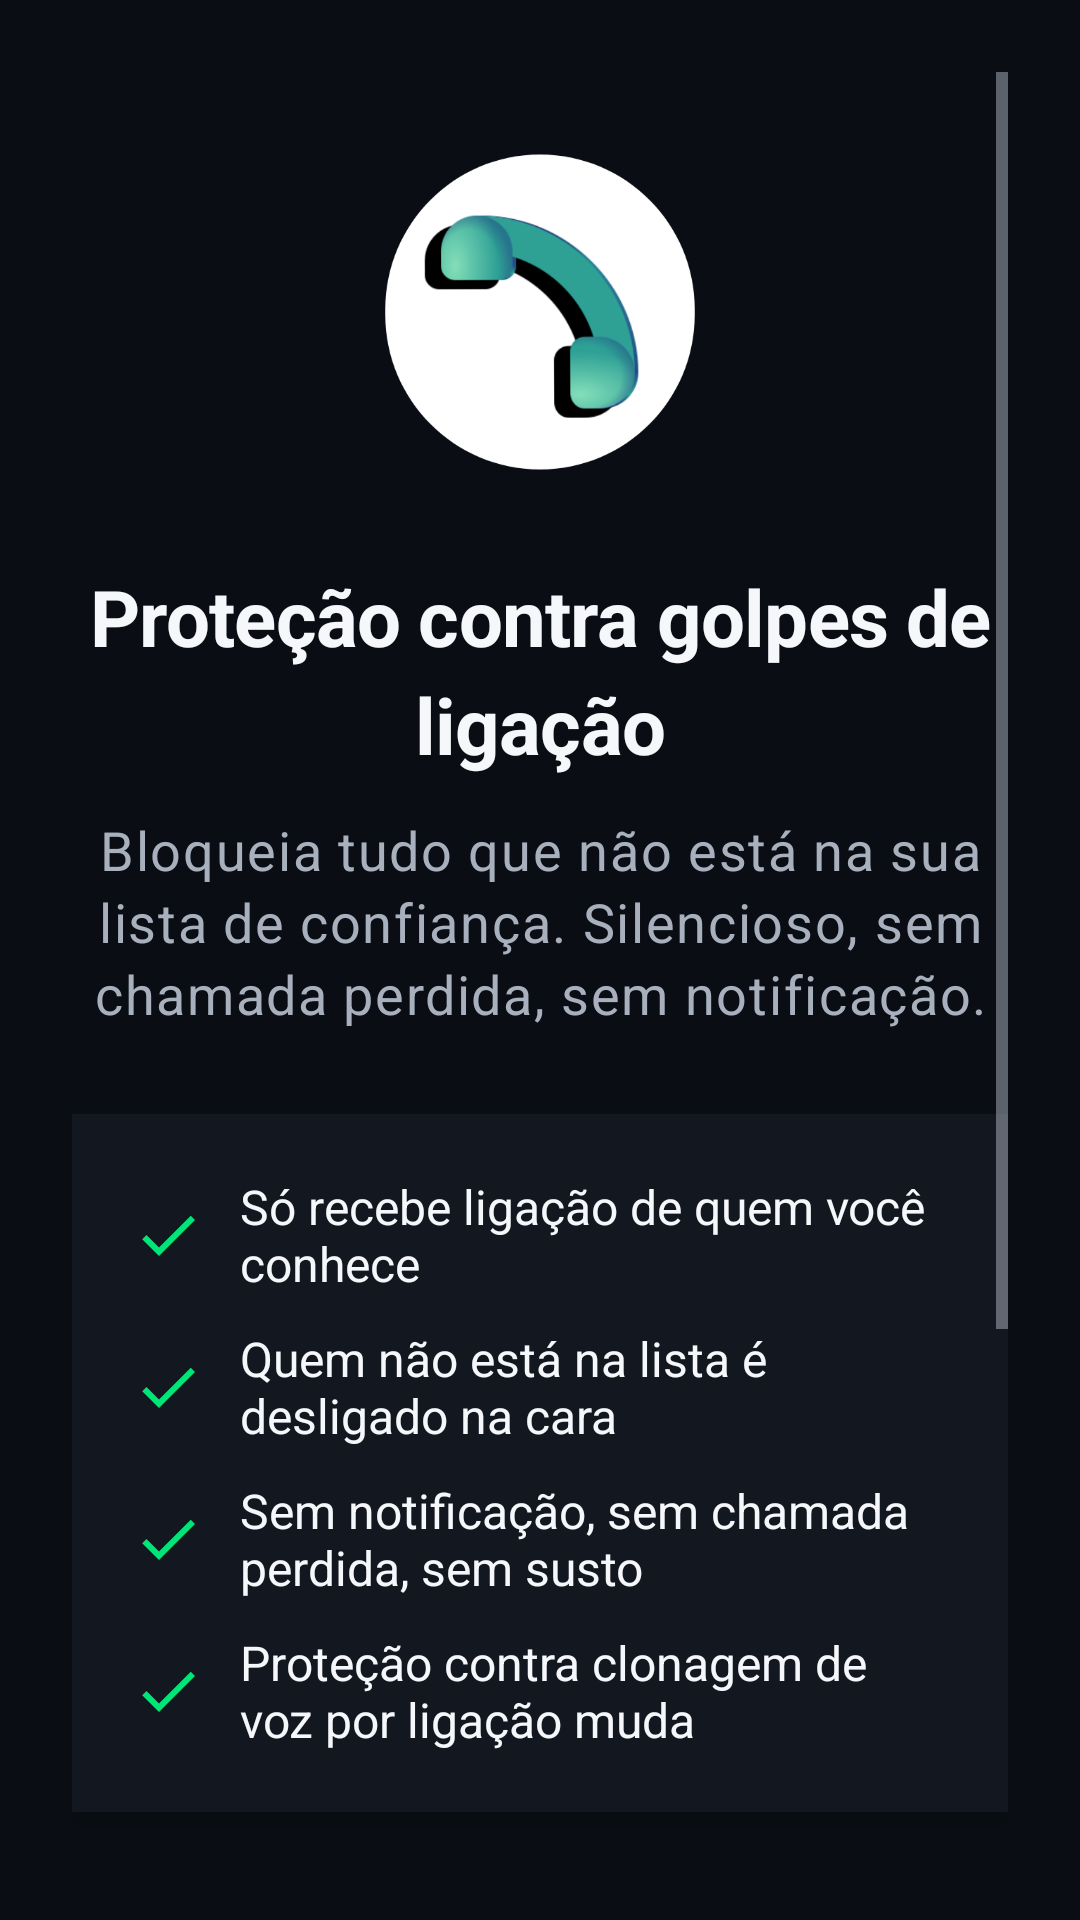

Where to tap for icons on this 1080px×1920px app screen, as [x,y]:
check: [168,1236], [168,1388], [168,1540], [168,1692]
